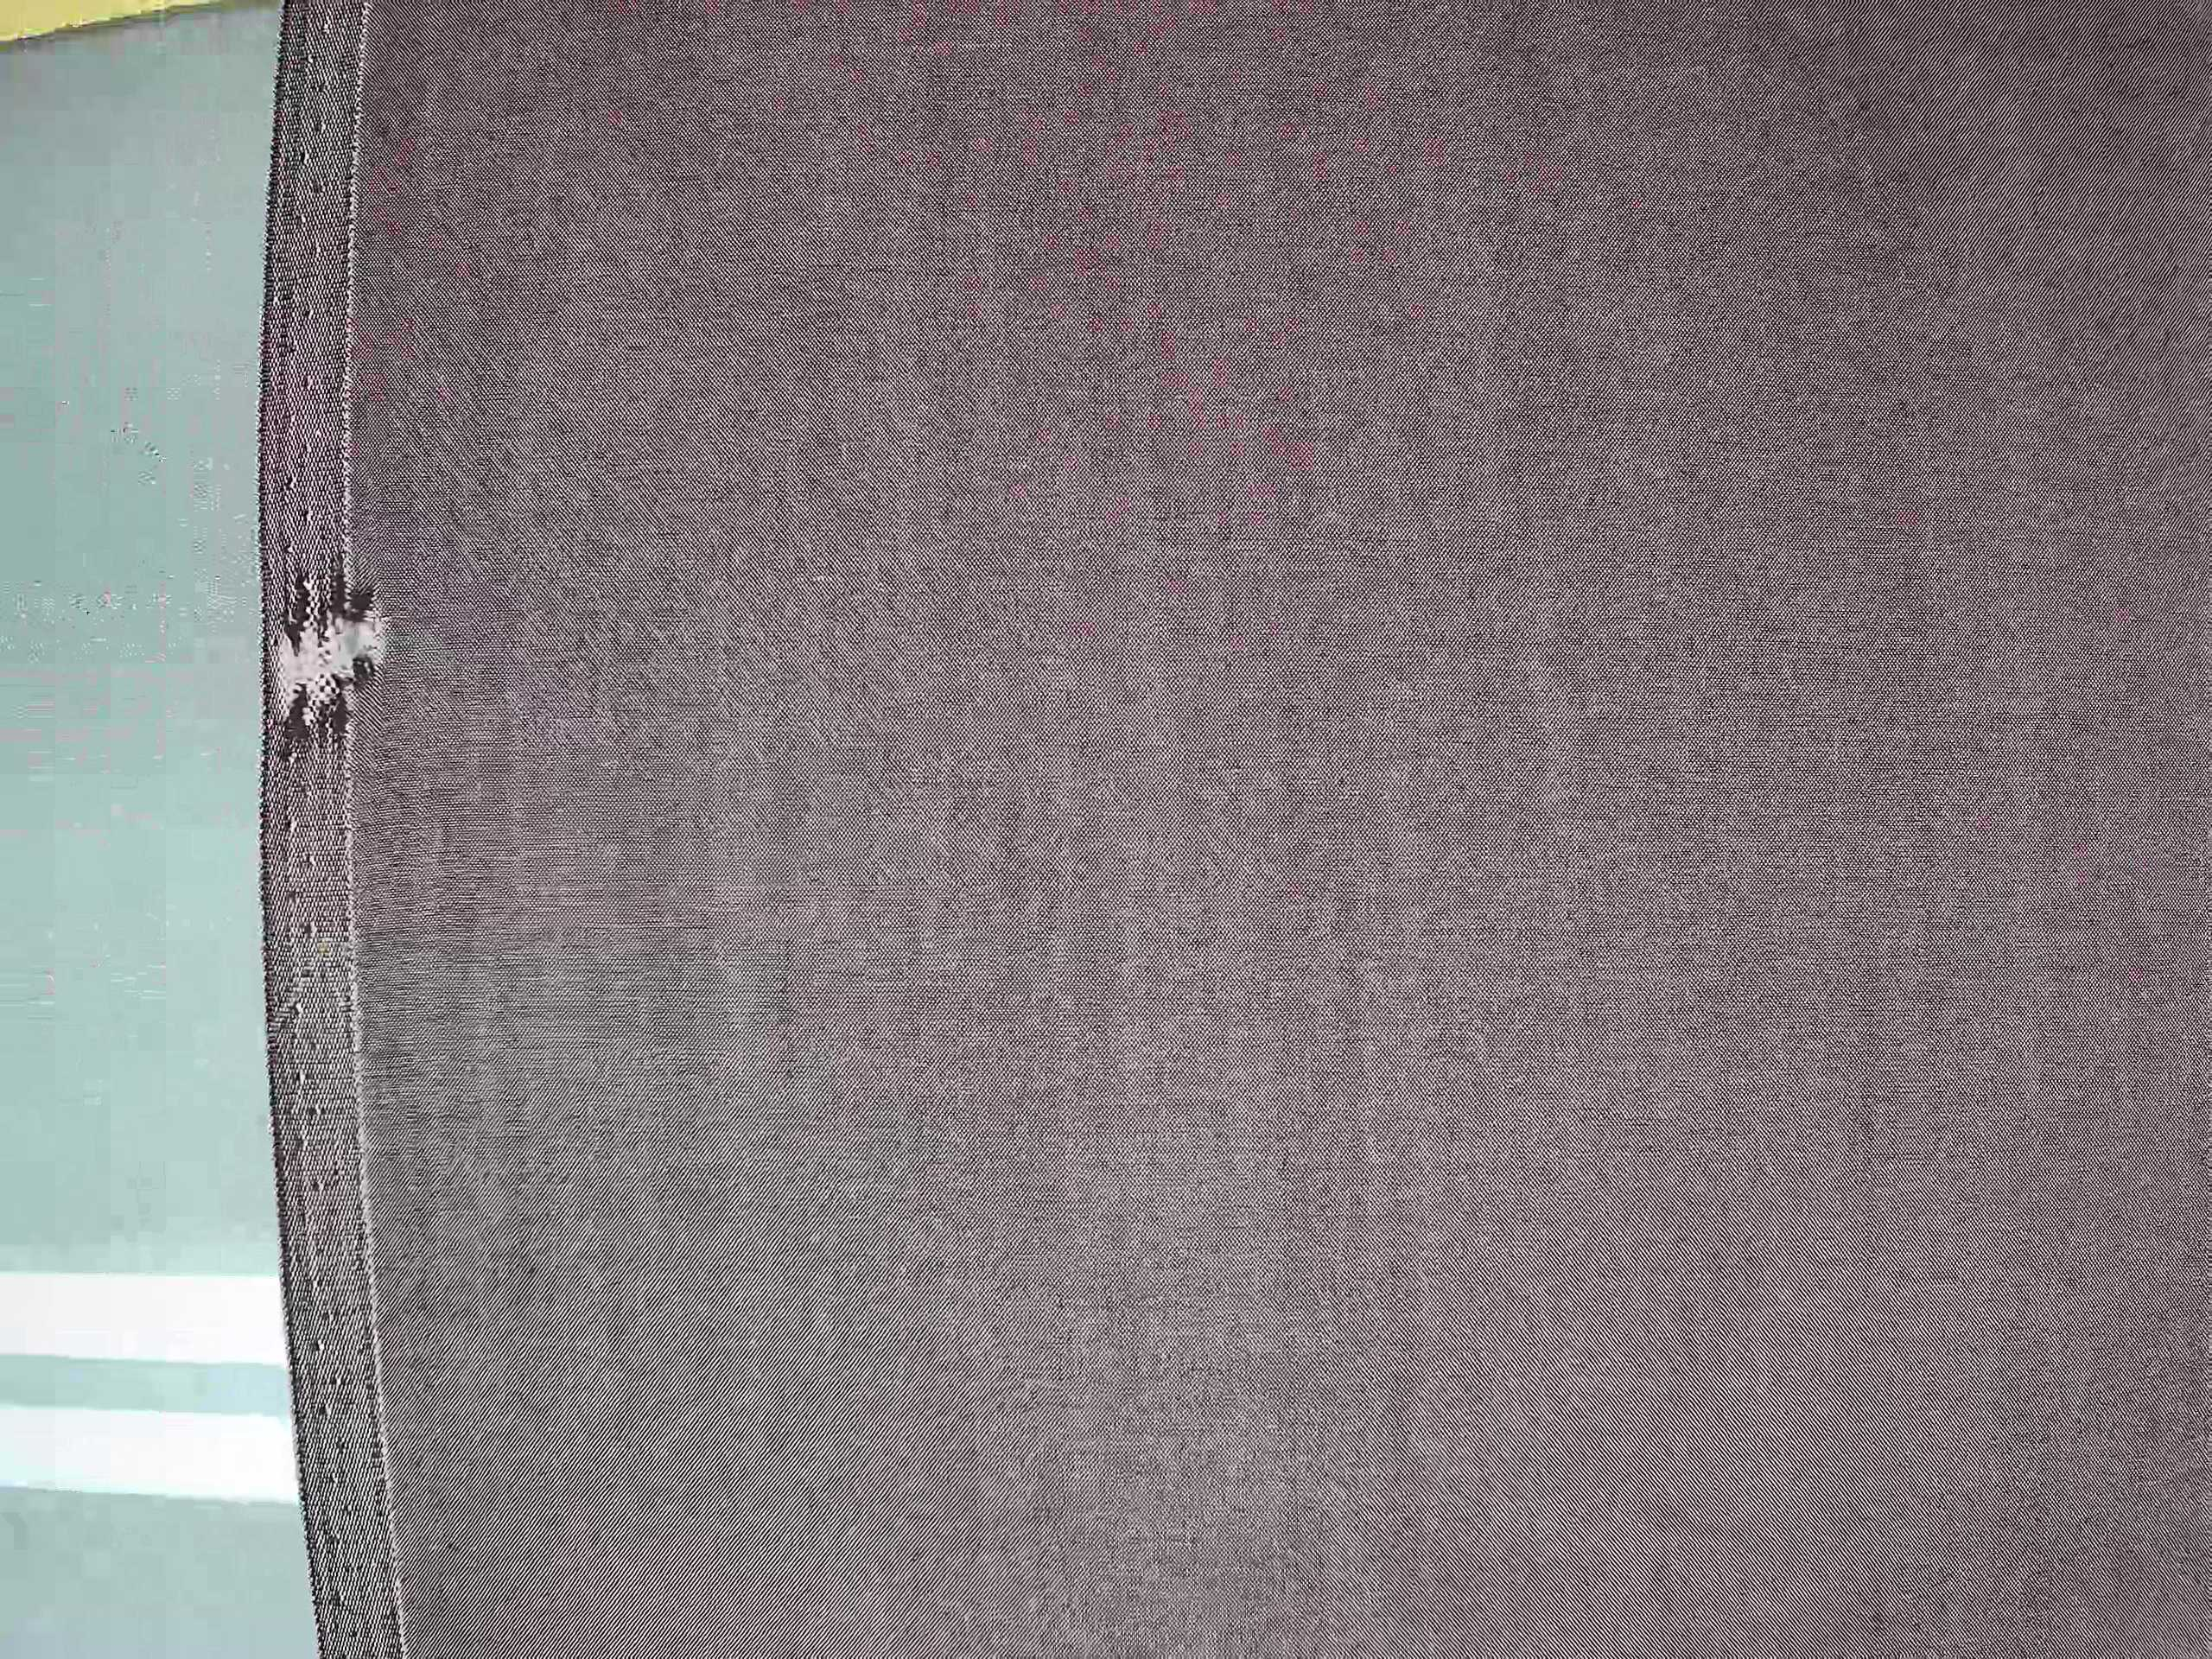brushed-hole: (266, 558, 399, 767)
